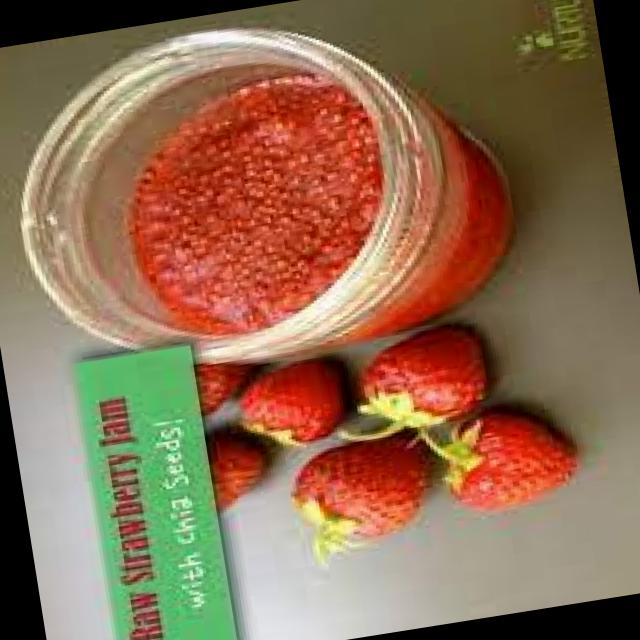strawberry: (280, 424, 444, 569), (355, 314, 493, 434), (432, 404, 582, 514), (226, 344, 359, 461)
